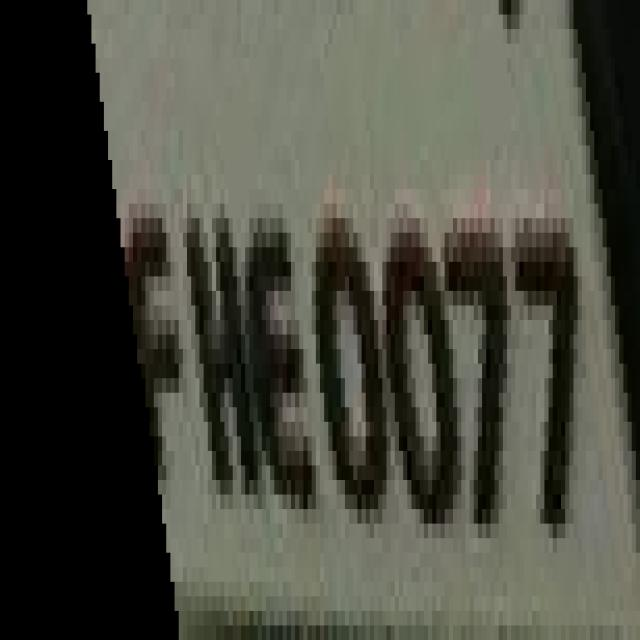plate: (21, 29, 640, 596)
